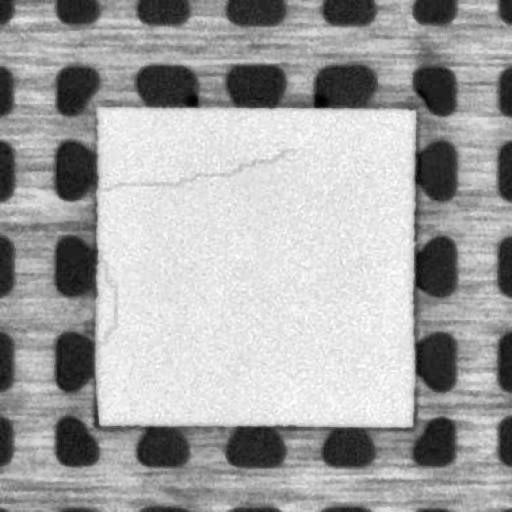DIE_CRACK: (98, 143, 308, 339)
